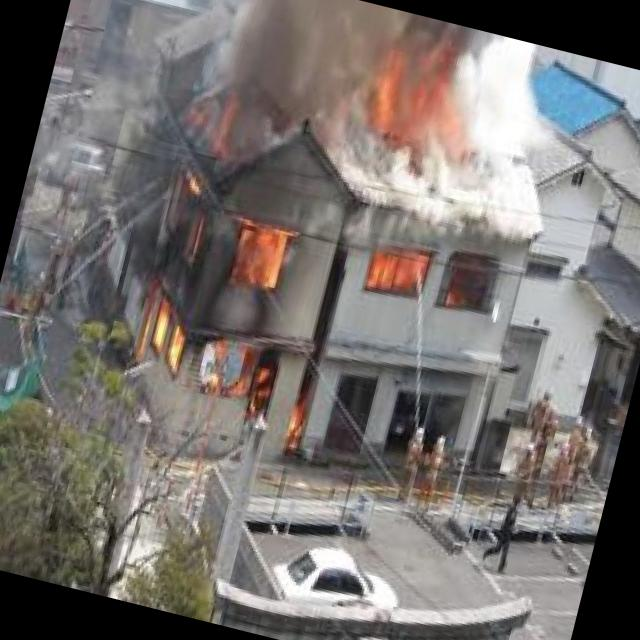Fire: (76, 100, 380, 461), (366, 240, 468, 312)
Smoke: (199, 0, 585, 246)
